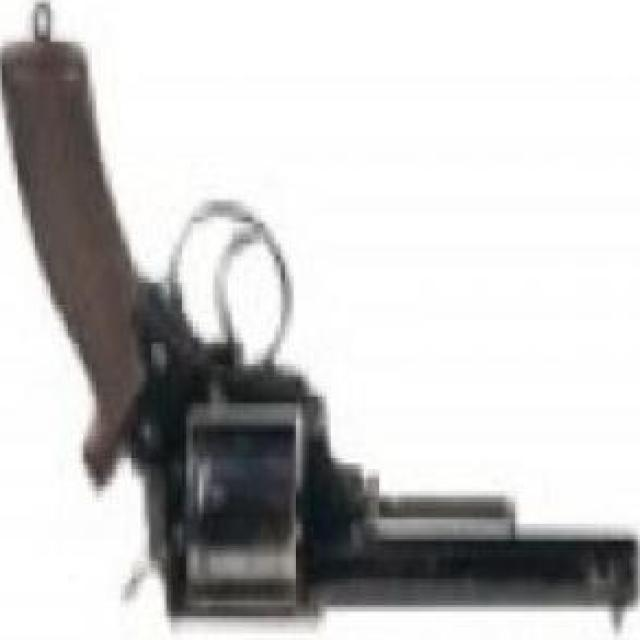pistol: (0, 31, 629, 627)
